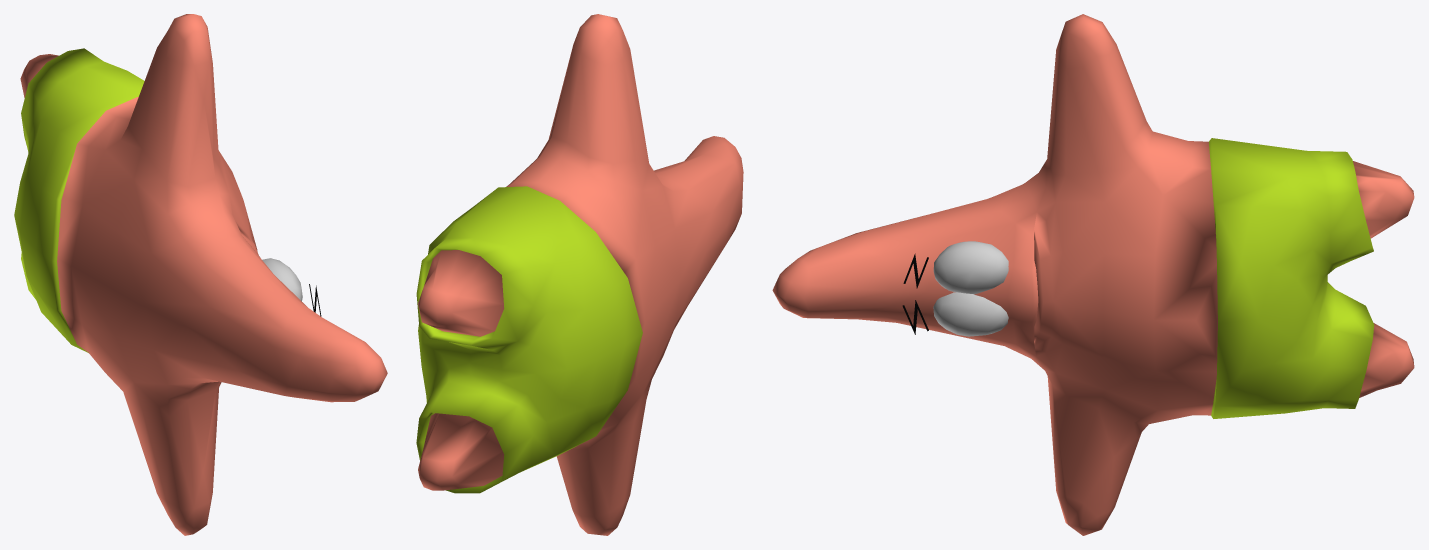
Rendered from patrik.obj.
3 views of the same model, side by side, from view 1: azimuth 30°, elevation 25°; view 2: azimuth 150°, elevation 25°; view 3: azimuth 270°, elevation 25° (orthographic).
Parts seen in each view (by area): view 1: Patrick; view 2: Patrick; view 3: Patrick.
Boxes of the visible parts, x1,y1,x2,y2 form: Patrick: (14, 14, 387, 535); Patrick: (416, 14, 743, 535); Patrick: (772, 14, 1414, 535).
Bounding box in the file's own units: 2.11 × 5.51 × 6.19.
